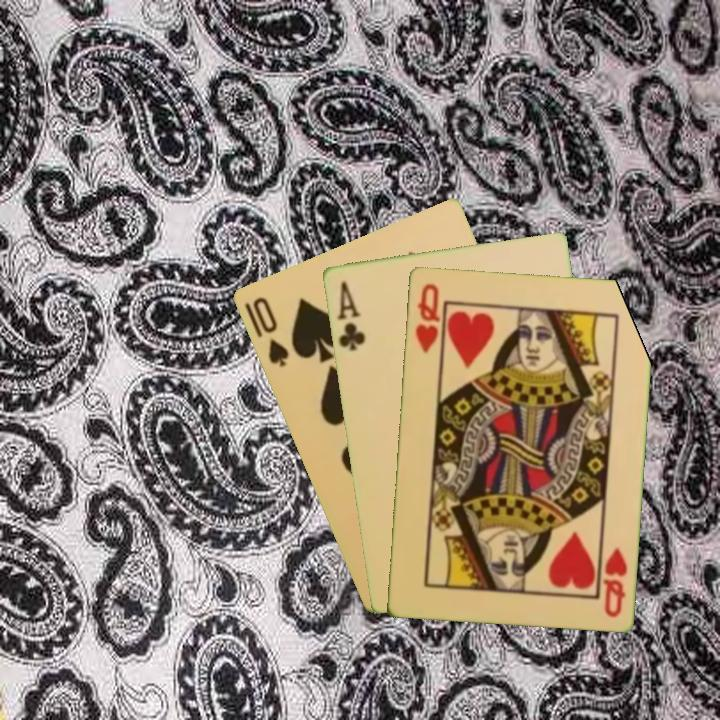10s: (248, 293, 292, 370)
Ac: (333, 277, 368, 353)
Qh: (411, 280, 443, 356), (599, 543, 630, 620)
